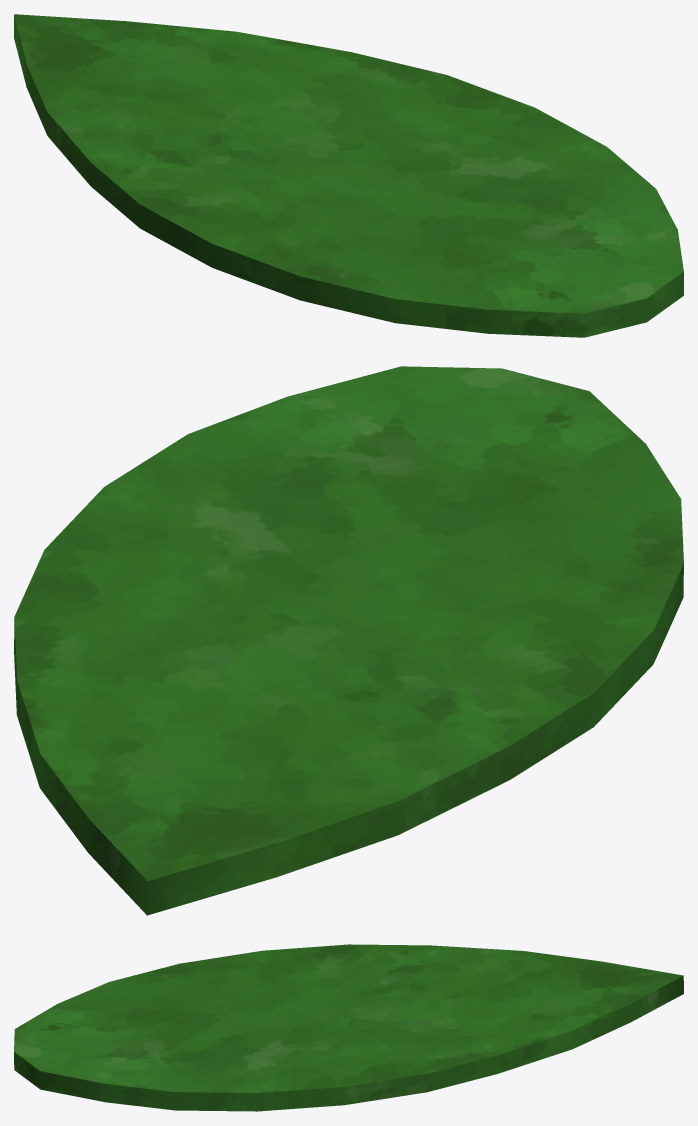
The model's file is Semente Abobora.fbx.
3 renders of one model, top to bottom at view 1: azimuth 30°, elevation 25°; view 2: azimuth 150°, elevation 25°; view 3: azimuth 270°, elevation 25°, orthographic. The views are drawn at different scales.
Parts seen in each view (by area): view 1: Semente Abobora; view 2: Semente Abobora; view 3: Semente Abobora.
Boxes of the visible parts, bbox=[...] form: Semente Abobora: bbox=[14, 14, 683, 337]; Semente Abobora: bbox=[14, 366, 683, 915]; Semente Abobora: bbox=[14, 944, 683, 1111].
Size of the model in its own units: 2.09 by 0.1576 by 3.93.
Materials: 1 (1 with a texture image).
